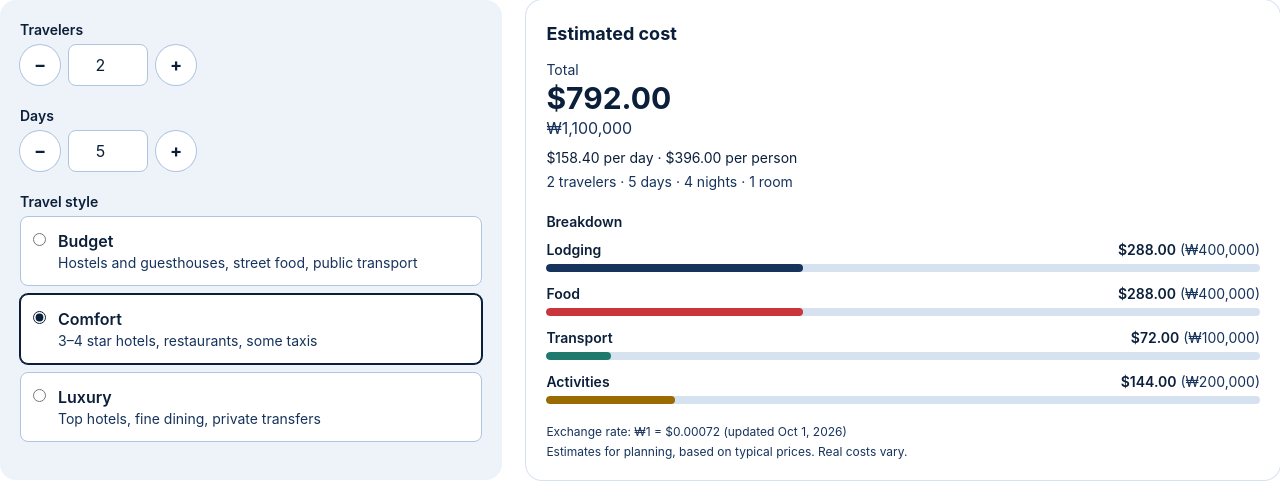
Test: CityCalculator › debounces quick changes into one request
Expected: the text "$792.00" is shown, [546,80,671,116]
Click the button named "More travelers": (176, 65) [156,45,196,85]
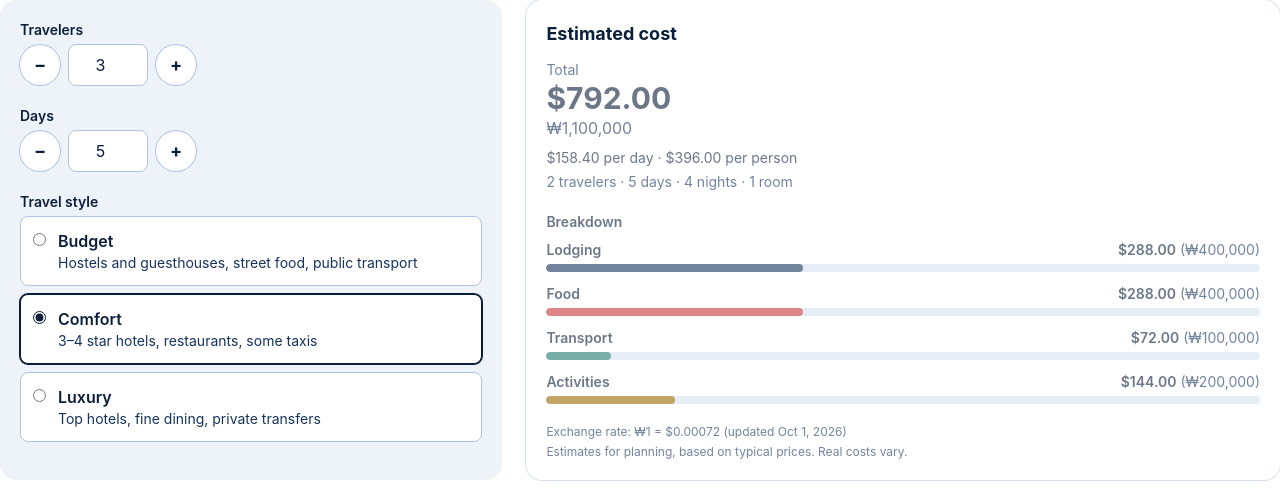
Click the button named "More travelers": (176, 65) [156,45,196,85]
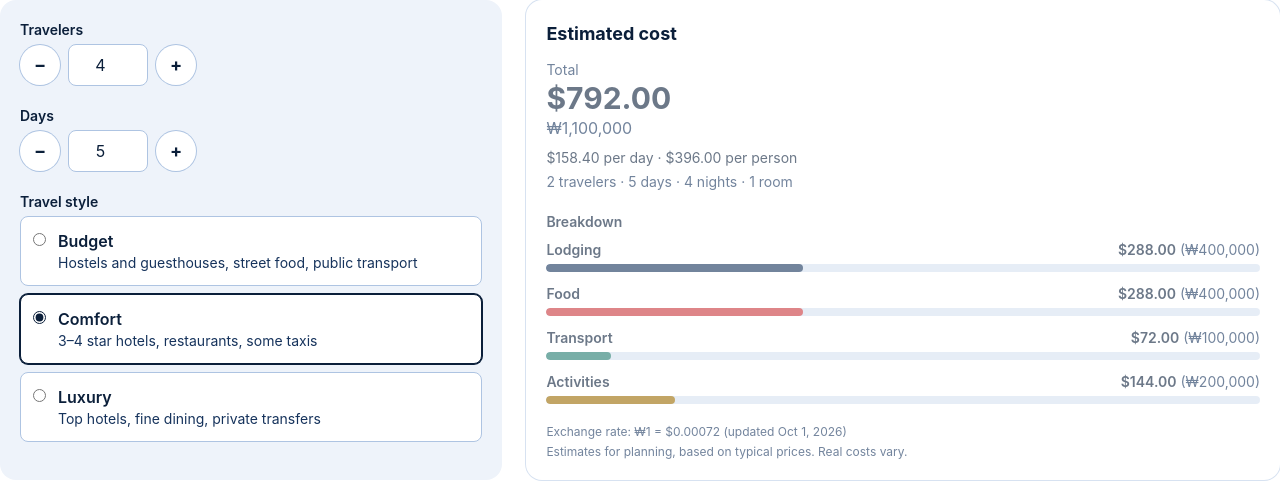
Click the button named "More travelers": (176, 65) [156,45,196,85]
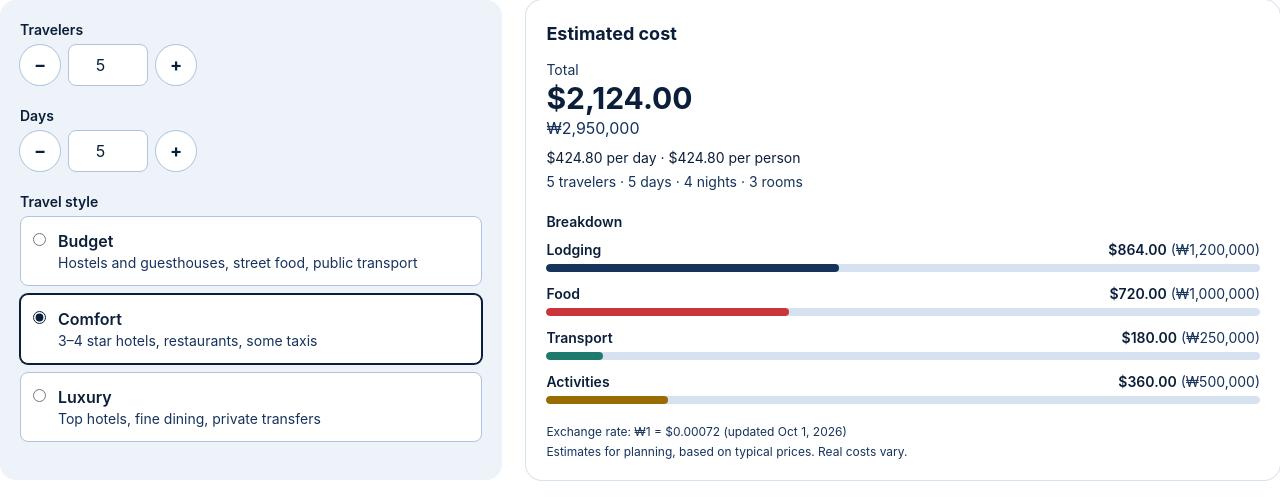
Expected: the text "5 travelers · 5 days · 4 nights · 3 rooms" is shown, [546,173,803,190]
